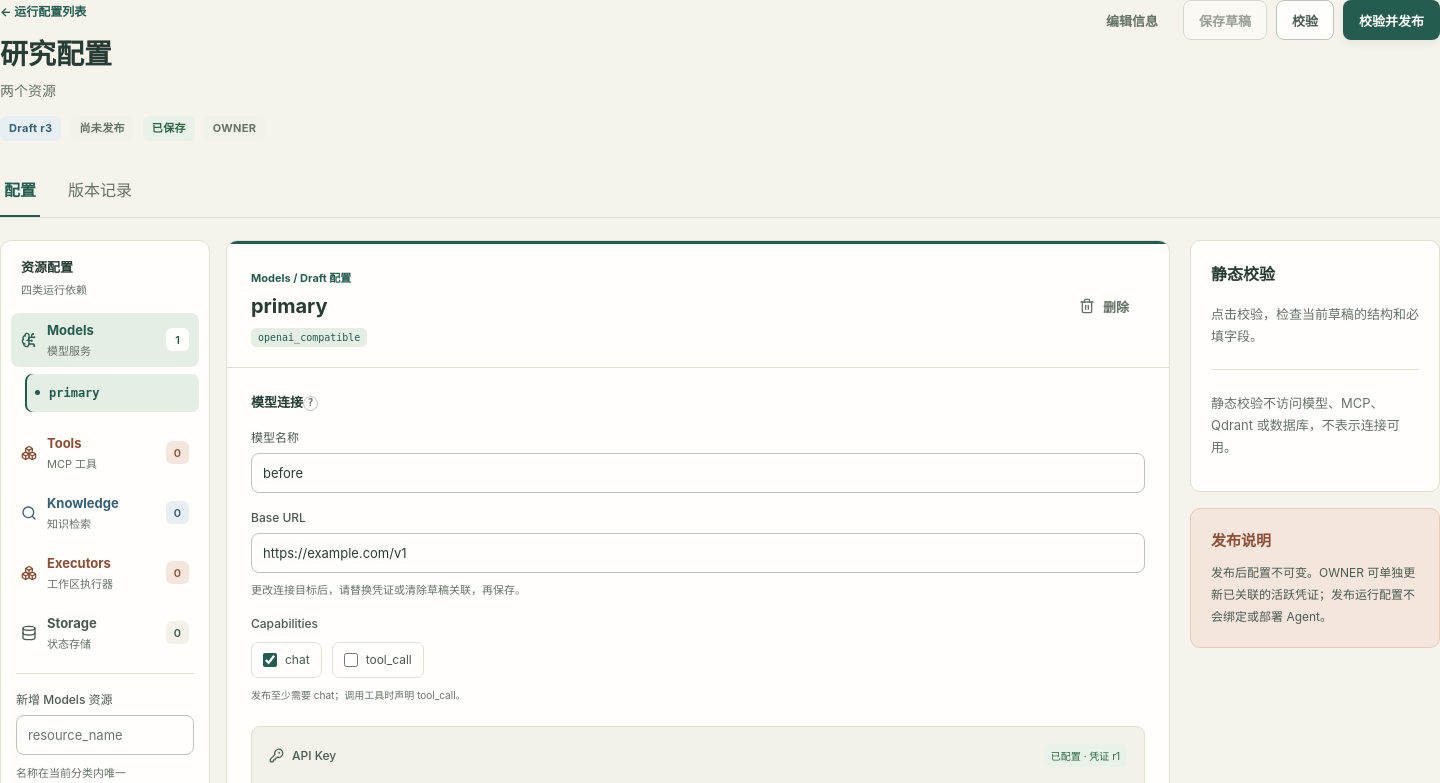
Runtime Profile workspace › retries an uncertain save using exactly the same body and idempotency key
Expected: the heading "研究配置" is shown, [0,37,112,71]
Replace the text in the field labelled "模型名称" with "after" at [698, 473], box [251,453,1145,493]
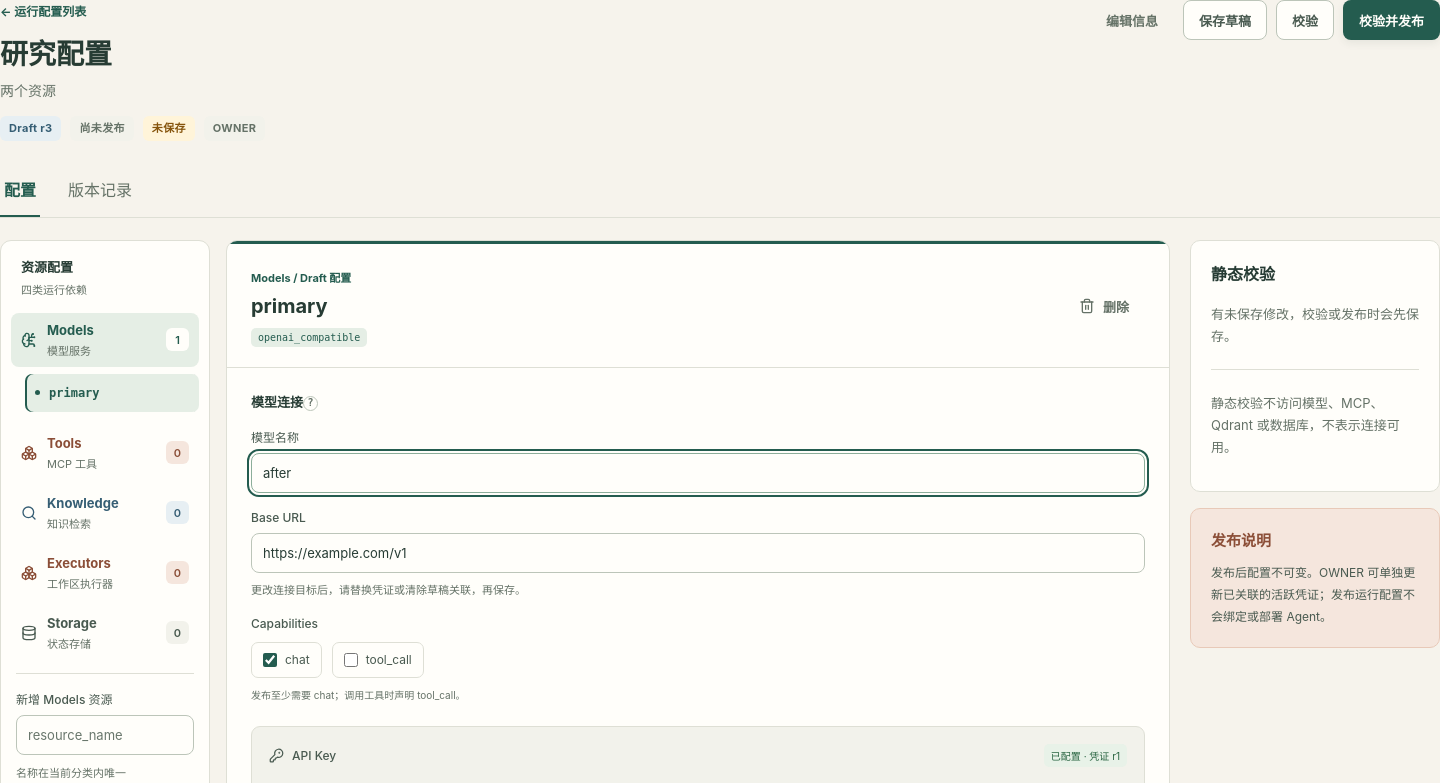
Click the button "保存草稿" at [1225, 20], box [1183,0,1267,40]
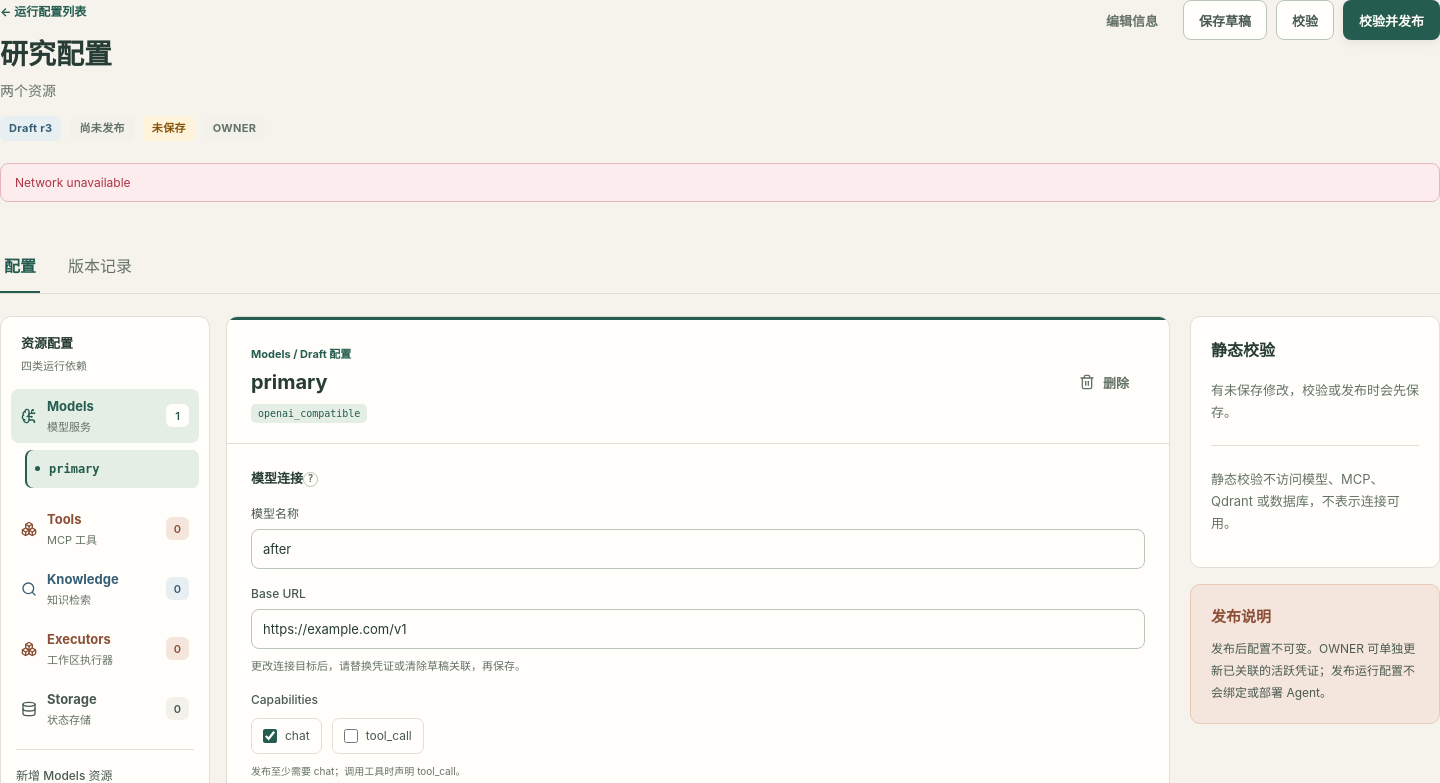
Expected: the message "Network unavailable" is shown, [0,163,1439,202]
Click the button "保存草稿" at [1225, 20], box [1183,0,1267,40]
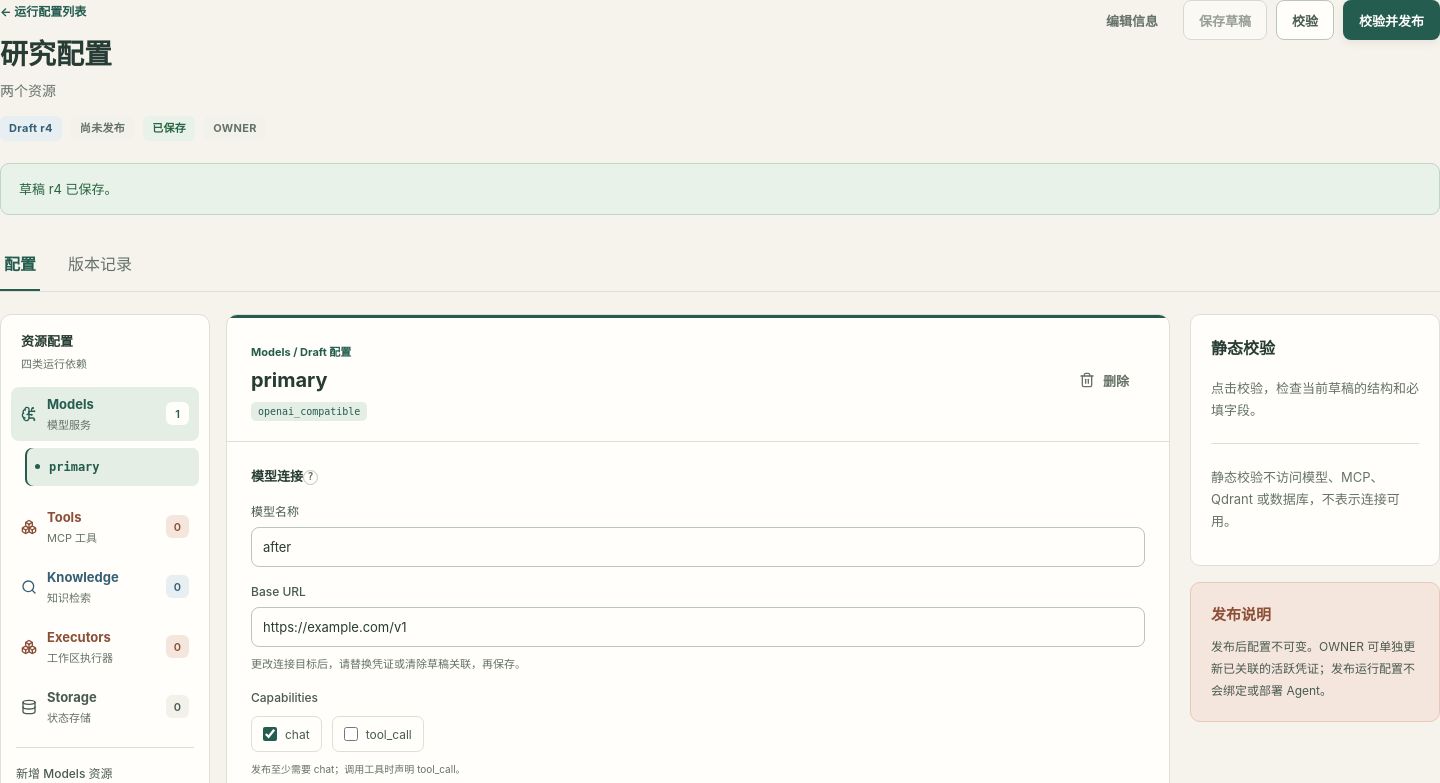
Expected: the text "草稿 r4 已保存。" is shown, [0,163,1439,215]
